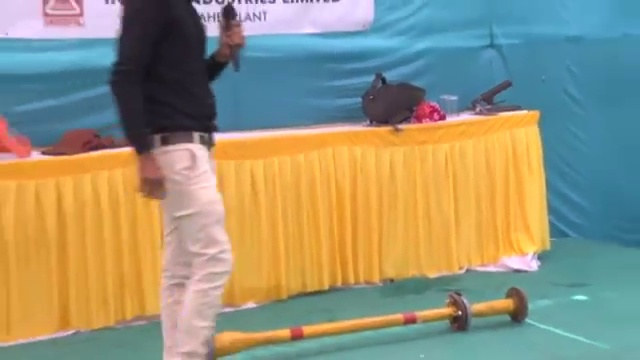person: (114, 1, 250, 360)
